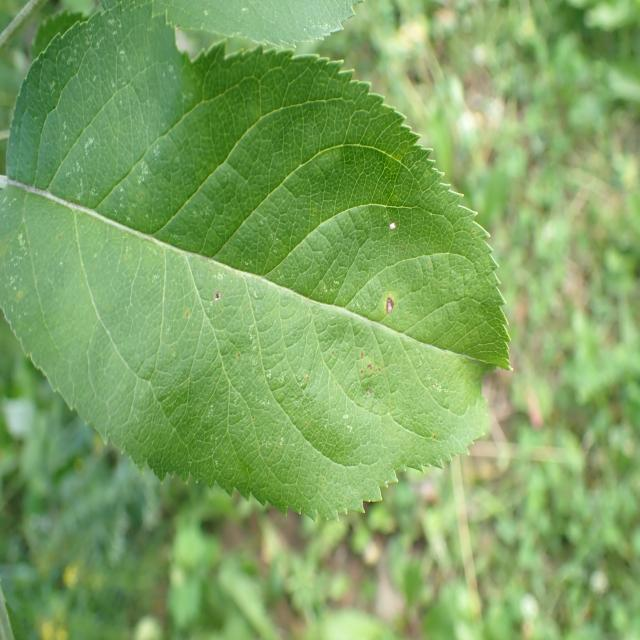Black Rot: (373, 285, 402, 330)
